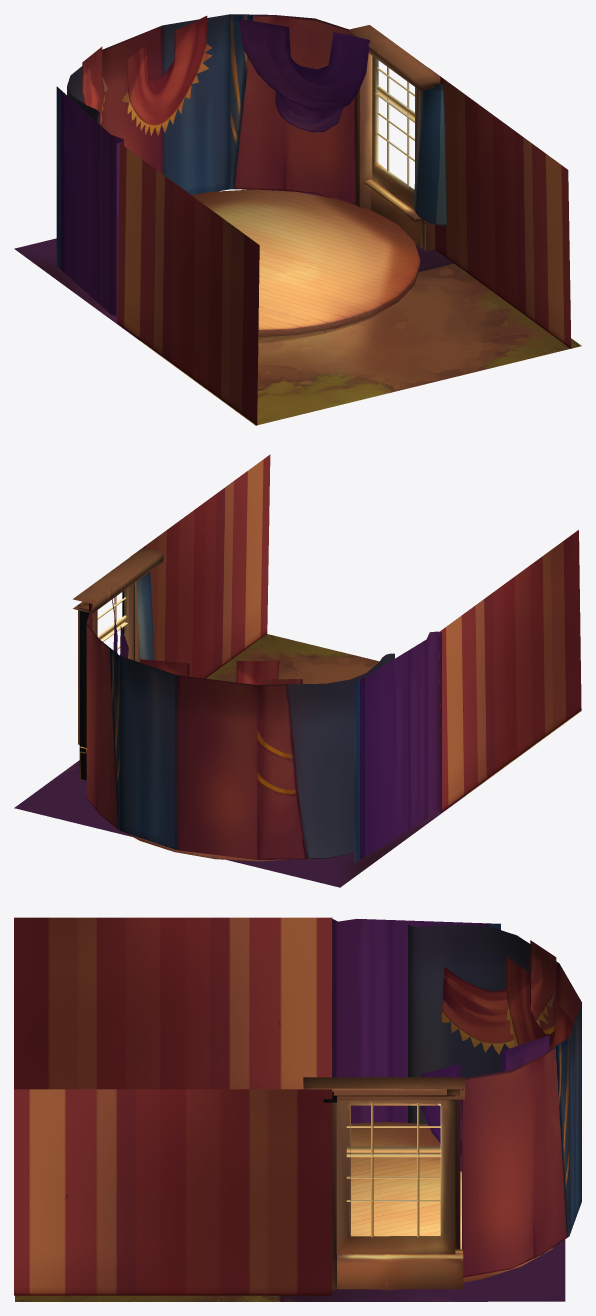
Rendered from stage_01_bg.fbx.
3 views of the same model, one above another, from view 1: azimuth 30°, elevation 25°; view 2: azimuth 150°, elevation 25°; view 3: azimuth 270°, elevation 25° (orthographic). The views are drawn at different scales.
Visible parts, largest first — view 1: background; view 2: background; view 3: background.
Boxes of the visible parts, <box> form: background: <box>14,14,581,425</box>; background: <box>14,454,581,887</box>; background: <box>14,917,581,1301</box>.
Bounding box in the file's own units: 1361 × 744 × 1803.
